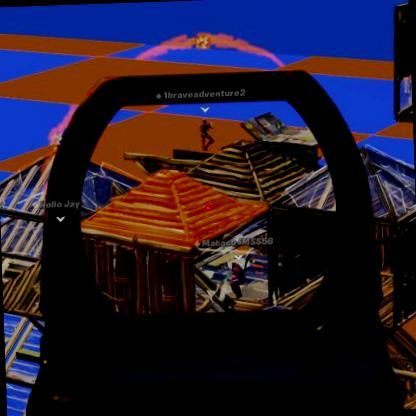person: (227, 260, 245, 294), (197, 116, 210, 146)
